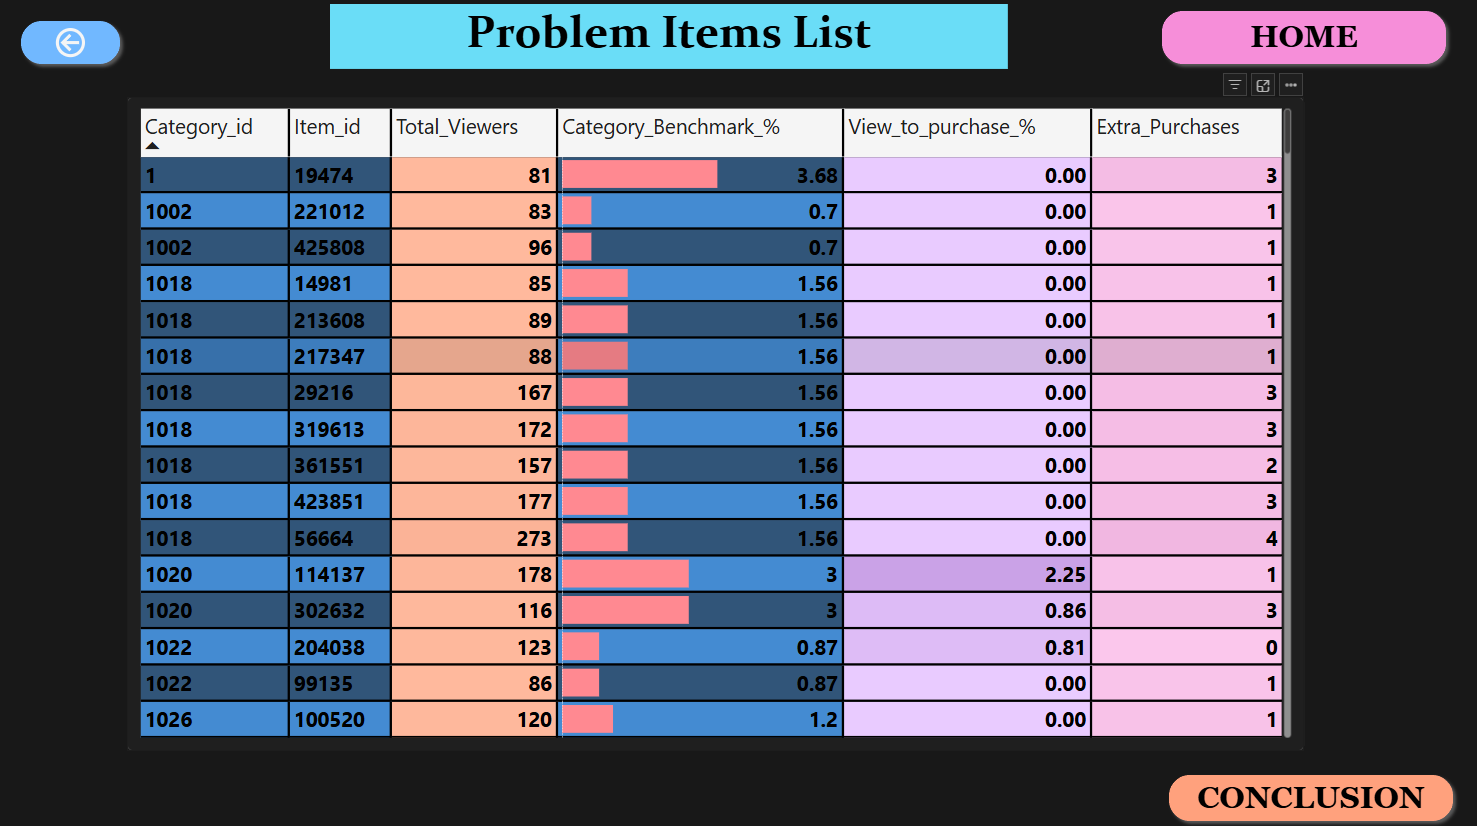

What the dashboard file says about the page in this screenshot:
{"tool":"powerbi","page":{"name":"Problem Items List","canvas":[1920,1080],"ordinal":3},"visuals":[{"type":"tableEx","fields":{"Values":["Problem_Items_list.category_id","Problem_Items_list.item_id","Problem_Items_list.total_viewers","Problem_Items_list.category_benchmark_pct","Problem_Items_list.est_extra_purchases"]},"box":[73.7,132,1780.3,813.8],"z":0},{"type":"textbox","box":[436,14.2,877.2,84.1],"z":1000},{"type":"actionButton","box":[18.1,24.6,146.2,73.7],"z":2000},{"type":"actionButton","box":[1503.4,14.2,385.6,86.7],"z":3000},{"type":"actionButton","box":[1512.5,1002.7,385.6,77.6],"z":6000}]}

Visuals, with their boxes in screenshot pixels (x1, y1, x2, y2), scaled from the page's 1920x1080 canvas onto the 1477x826 screenshot:
tableEx - Problem_Items_list.category_id x Problem_Items_list.item_id: 57,101,1426,723
textbox: 335,11,1010,75
actionButton: 14,19,126,75
actionButton: 1157,11,1453,77
actionButton: 1164,767,1460,825
